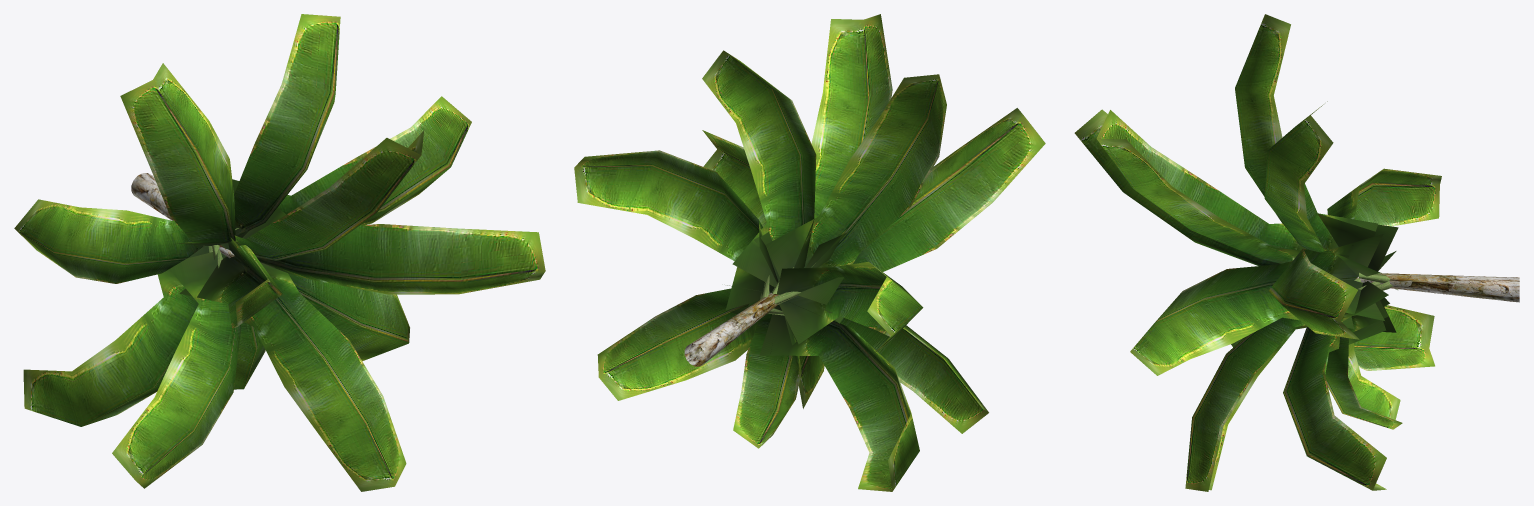
File: tree-5.gltf
3 views of the same model, side by side, from view 1: azimuth 30°, elevation 25°; view 2: azimuth 150°, elevation 25°; view 3: azimuth 270°, elevation 25° (orthographic). The views are drawn at different scales.
Visible parts, largest first — view 1: tree.015; view 2: tree.015; view 3: tree.015.
Boxes of the visible parts, bbox=[...] form: tree.015: bbox=[14, 14, 545, 491]; tree.015: bbox=[574, 14, 1045, 491]; tree.015: bbox=[1074, 14, 1519, 491].
Size of the model in its own units: 3.53 by 3.62 by 3.68.
Materials: 1 (1 with a texture image).
